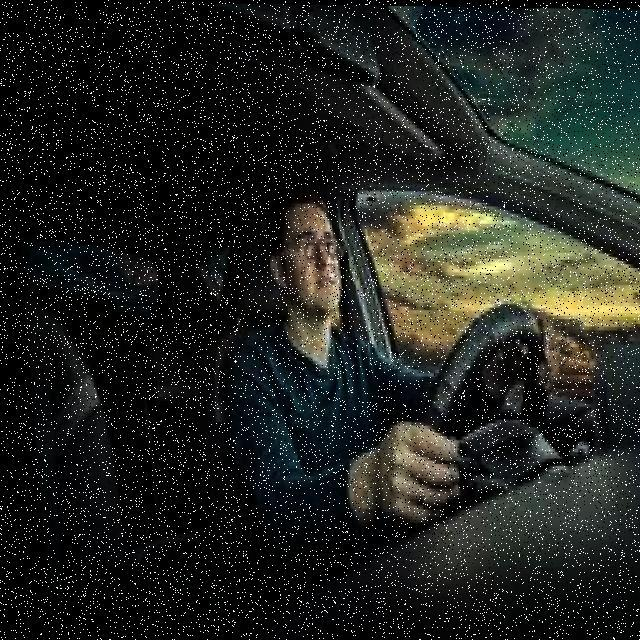noSeatbelt: (210, 291, 414, 538)
